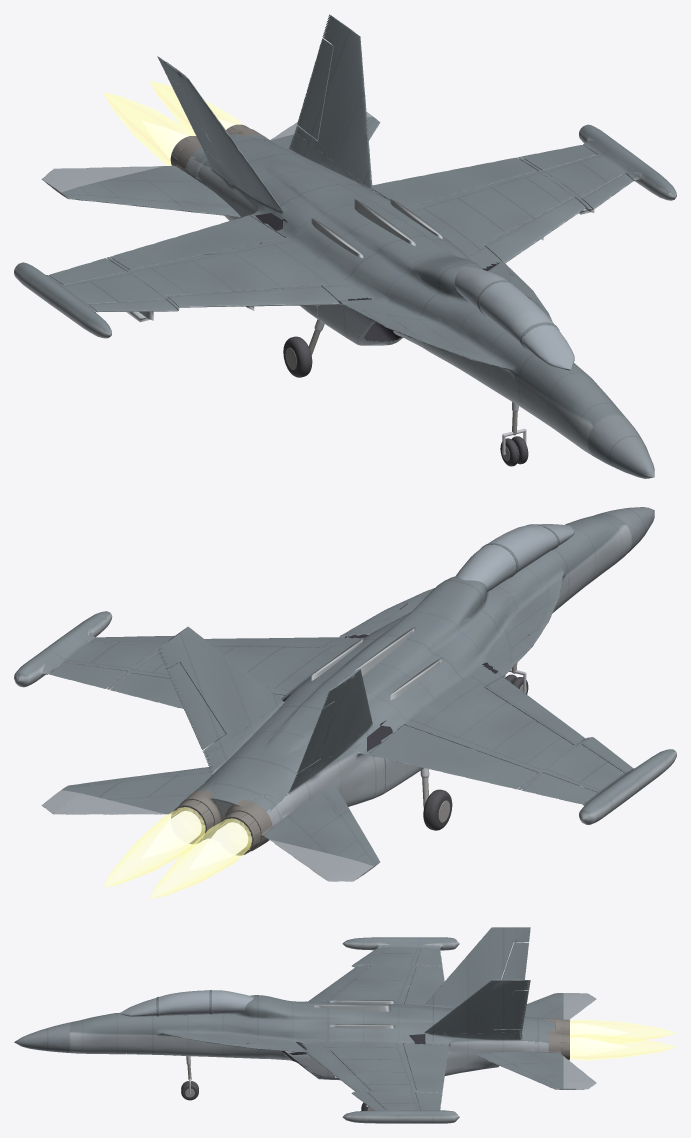
3 renders of one model, top to bottom at view 1: azimuth 30°, elevation 25°; view 2: azimuth 150°, elevation 25°; view 3: azimuth 270°, elevation 25°, orthographic. The views are drawn at different scales.
Visible parts, largest first — view 1: fsim:section:nose, fsim:section:tail, fsim:section:centre, fsim:section:right-wing, fsim:section:left-wing, fsim:flaps+speedbrake:0.349066 (×2), fsim:lef@-5,34 (×4), fsim:elevator+aileron:-0.4@-24,20, fsim:afterburner:1, fsim:aileron (×2), fsim:rudder+speedbrake:0.523599, fsim:afterburner:0 (+2 smaller); view 2: fsim:section:tail, fsim:section:centre, fsim:section:nose, fsim:section:right-wing, fsim:section:left-wing, fsim:elevator+aileron:-0.4@-24,20, fsim:flaps+speedbrake:0.349066 (×2), fsim:elevator+aileron:0.4@-24,20, fsim:afterburner:1, fsim:afterburner:0, fsim:lef@-5,34 (×3), fsim:aileron (×2) (+5 smaller); view 3: fsim:section:tail, fsim:section:nose, fsim:section:centre, fsim:section:left-wing, fsim:section:right-wing, fsim:flaps+speedbrake:0.349066 (×2), fsim:elevator+aileron:0.4@-24,20, fsim:afterburner:0, fsim:afterburner:1, fsim:lef@-5,34 (×2), fsim:elevator+aileron:-0.4@-24,20, fsim:rudder+speedbrake:0.523599 (+3 smaller).
Boxes of the visible parts, bbox=[...] form: fsim:section:nose: bbox=[391, 264, 654, 478]; fsim:section:tail: bbox=[14, 14, 626, 303]; fsim:section:centre: bbox=[38, 144, 676, 355]; fsim:section:right-wing: bbox=[40, 215, 371, 330]; fsim:section:left-wing: bbox=[372, 133, 641, 271]; fsim:flaps+speedbrake:0.349066 (×2): bbox=[110, 157, 537, 269]; fsim:lef@-5,34 (×4): bbox=[89, 173, 633, 312]; fsim:elevator+aileron:-0.4@-24,20: bbox=[41, 165, 240, 217]; fsim:afterburner:1: bbox=[103, 92, 195, 165]; fsim:aileron (×2): bbox=[49, 145, 596, 284]; fsim:rudder+speedbrake:0.523599: bbox=[297, 38, 333, 140]; fsim:afterburner:0: bbox=[150, 81, 242, 135]; fsim:section:tail: bbox=[14, 626, 631, 851]; fsim:section:centre: bbox=[44, 577, 676, 801]; fsim:section:nose: bbox=[392, 507, 654, 641]; fsim:section:right-wing: bbox=[367, 662, 640, 805]; fsim:section:left-wing: bbox=[36, 629, 370, 699]; fsim:elevator+aileron:-0.4@-24,20: bbox=[264, 786, 379, 881]; fsim:flaps+speedbrake:0.349066 (×2): bbox=[110, 673, 537, 789]; fsim:elevator+aileron:0.4@-24,20: bbox=[41, 767, 211, 814]; fsim:afterburner:1: bbox=[150, 818, 251, 898]; fsim:afterburner:0: bbox=[103, 807, 205, 887]; fsim:lef@-5,34 (×3): bbox=[204, 637, 633, 772]; fsim:aileron (×2): bbox=[49, 662, 597, 804]; fsim:section:tail: bbox=[404, 927, 560, 1123]; fsim:section:nose: bbox=[14, 990, 262, 1058]; fsim:section:centre: bbox=[247, 937, 423, 1123]; fsim:section:left-wing: bbox=[289, 1040, 448, 1110]; fsim:section:right-wing: bbox=[304, 940, 442, 1004]; fsim:flaps+speedbrake:0.349066 (×2): bbox=[403, 966, 448, 1091]; fsim:elevator+aileron:0.4@-24,20: bbox=[474, 1052, 596, 1089]; fsim:afterburner:0: bbox=[570, 1034, 676, 1060]; fsim:afterburner:1: bbox=[570, 1019, 676, 1043]; fsim:lef@-5,34 (×2): bbox=[306, 965, 369, 1091]; fsim:elevator+aileron:-0.4@-24,20: bbox=[525, 993, 596, 1019]; fsim:rudder+speedbrake:0.523599: bbox=[495, 990, 528, 1029].
Size of the model in its own units: 13.28 by 5.07 by 20.8.
13 materials, 1 textured.
